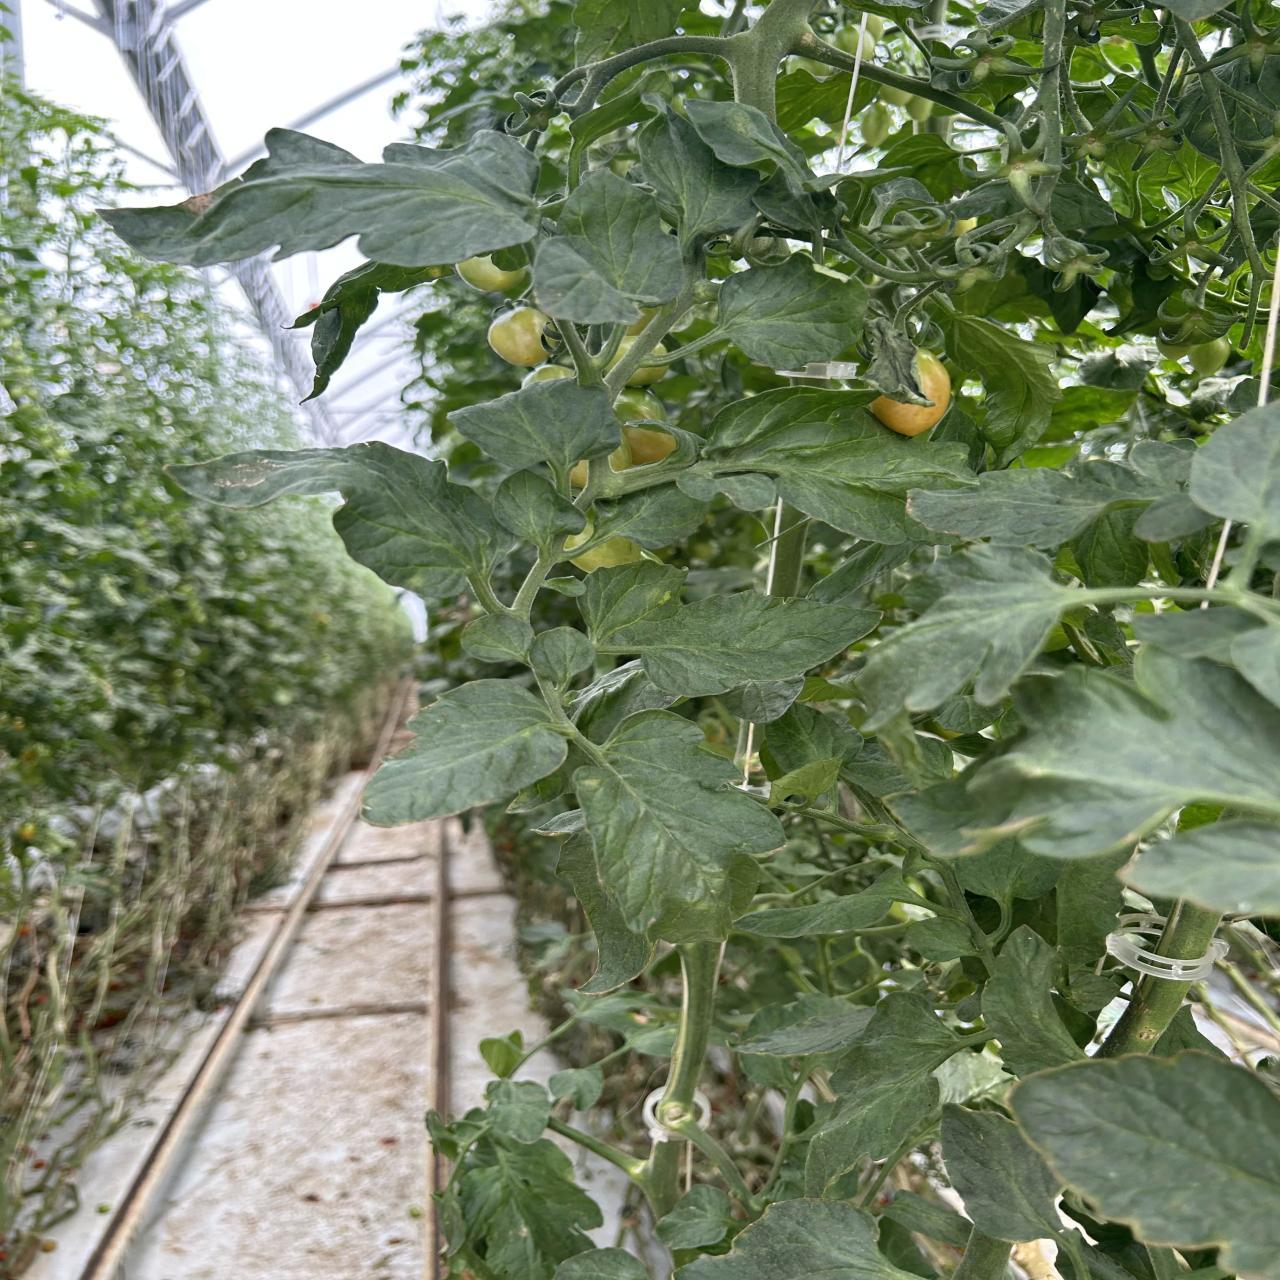Hoja: (532, 170, 681, 324)
Hoja rugoso: (956, 647, 1280, 858), (1012, 1051, 1280, 1280), (102, 130, 539, 267), (168, 443, 519, 599), (571, 712, 784, 941), (676, 387, 978, 543), (856, 544, 1081, 729), (428, 1078, 602, 1280), (805, 992, 967, 1194), (363, 679, 567, 825), (600, 592, 879, 696), (933, 300, 1062, 468), (675, 1199, 920, 1280), (907, 469, 1146, 550), (638, 114, 761, 257), (716, 254, 869, 369), (941, 1104, 1062, 1240), (450, 379, 620, 472), (557, 830, 654, 993), (981, 927, 1082, 1076), (685, 100, 819, 195), (734, 869, 911, 939), (577, 560, 685, 651), (737, 995, 874, 1056), (761, 703, 862, 783), (492, 470, 585, 547), (1160, 850, 1276, 910), (656, 1185, 731, 1252), (529, 627, 595, 690), (461, 614, 535, 663), (554, 1247, 651, 1280), (905, 918, 973, 962)
Pedunculo: (550, 941, 728, 1221), (726, 0, 843, 121), (767, 501, 803, 597)
Tomate Rugoso: (870, 353, 951, 436), (488, 307, 547, 367)
